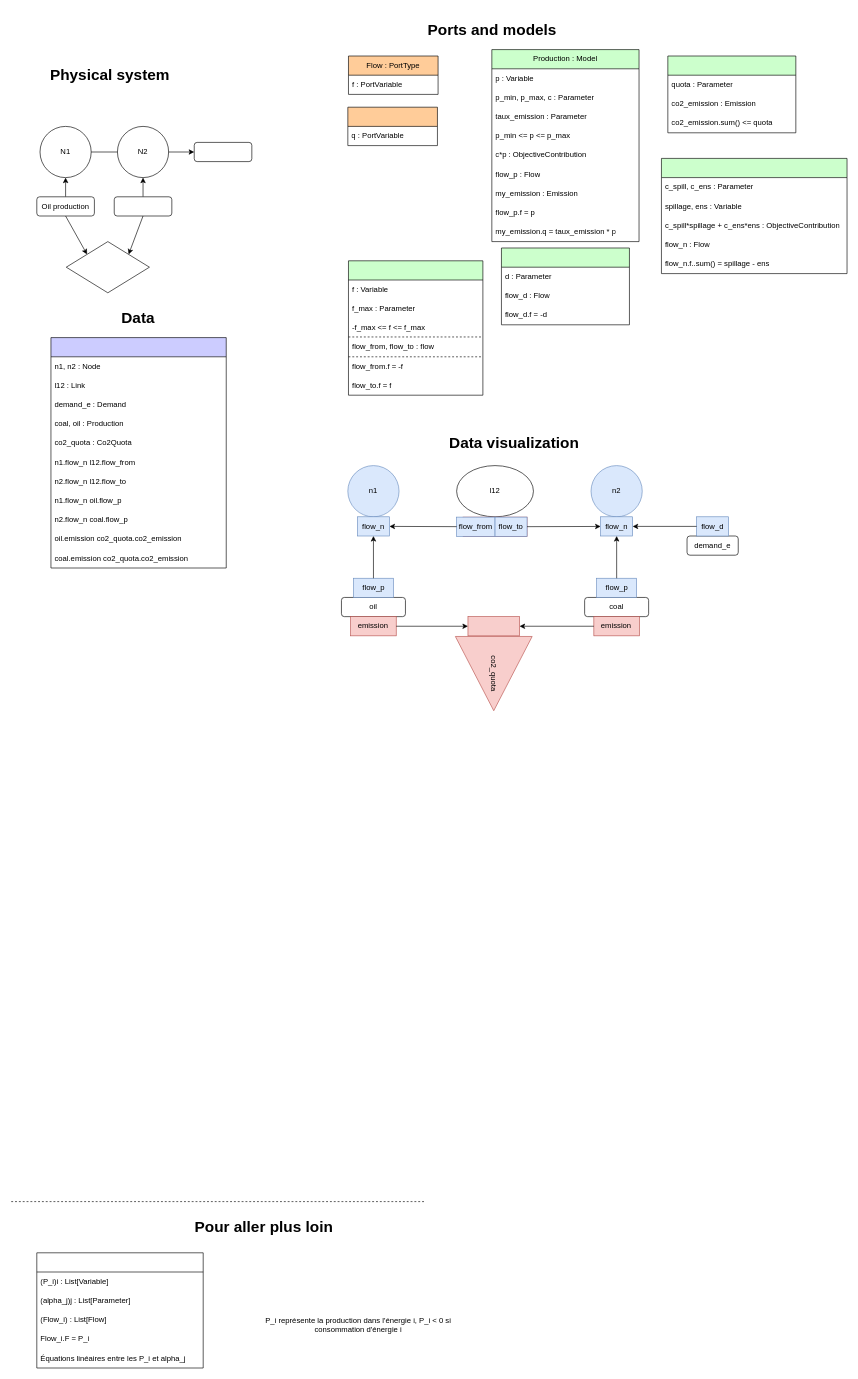
This 858x1379 diagram has some shape labels left out. Each missing label, with the box of its shape:
"Méta" Convertisseur à n pattes: (36, 1252, 203, 1368)
CO2 quota: (66, 241, 149, 293)
co2_emission: (467, 616, 520, 636)
Co2Quota : Model: (667, 55, 796, 133)
Coal production: (114, 196, 172, 216)
Demand : Model: (501, 247, 629, 325)
Elec demand: (194, 142, 252, 162)
Emission : PortType: (347, 107, 437, 146)
File "network.txt": (50, 337, 226, 568)
Link : Model: (348, 260, 483, 395)
Node : Model: (661, 158, 847, 274)
